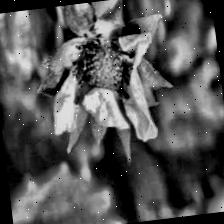Blossom Blight: (64, 27, 143, 107)
